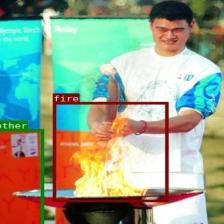fire: (52, 102, 168, 202)
